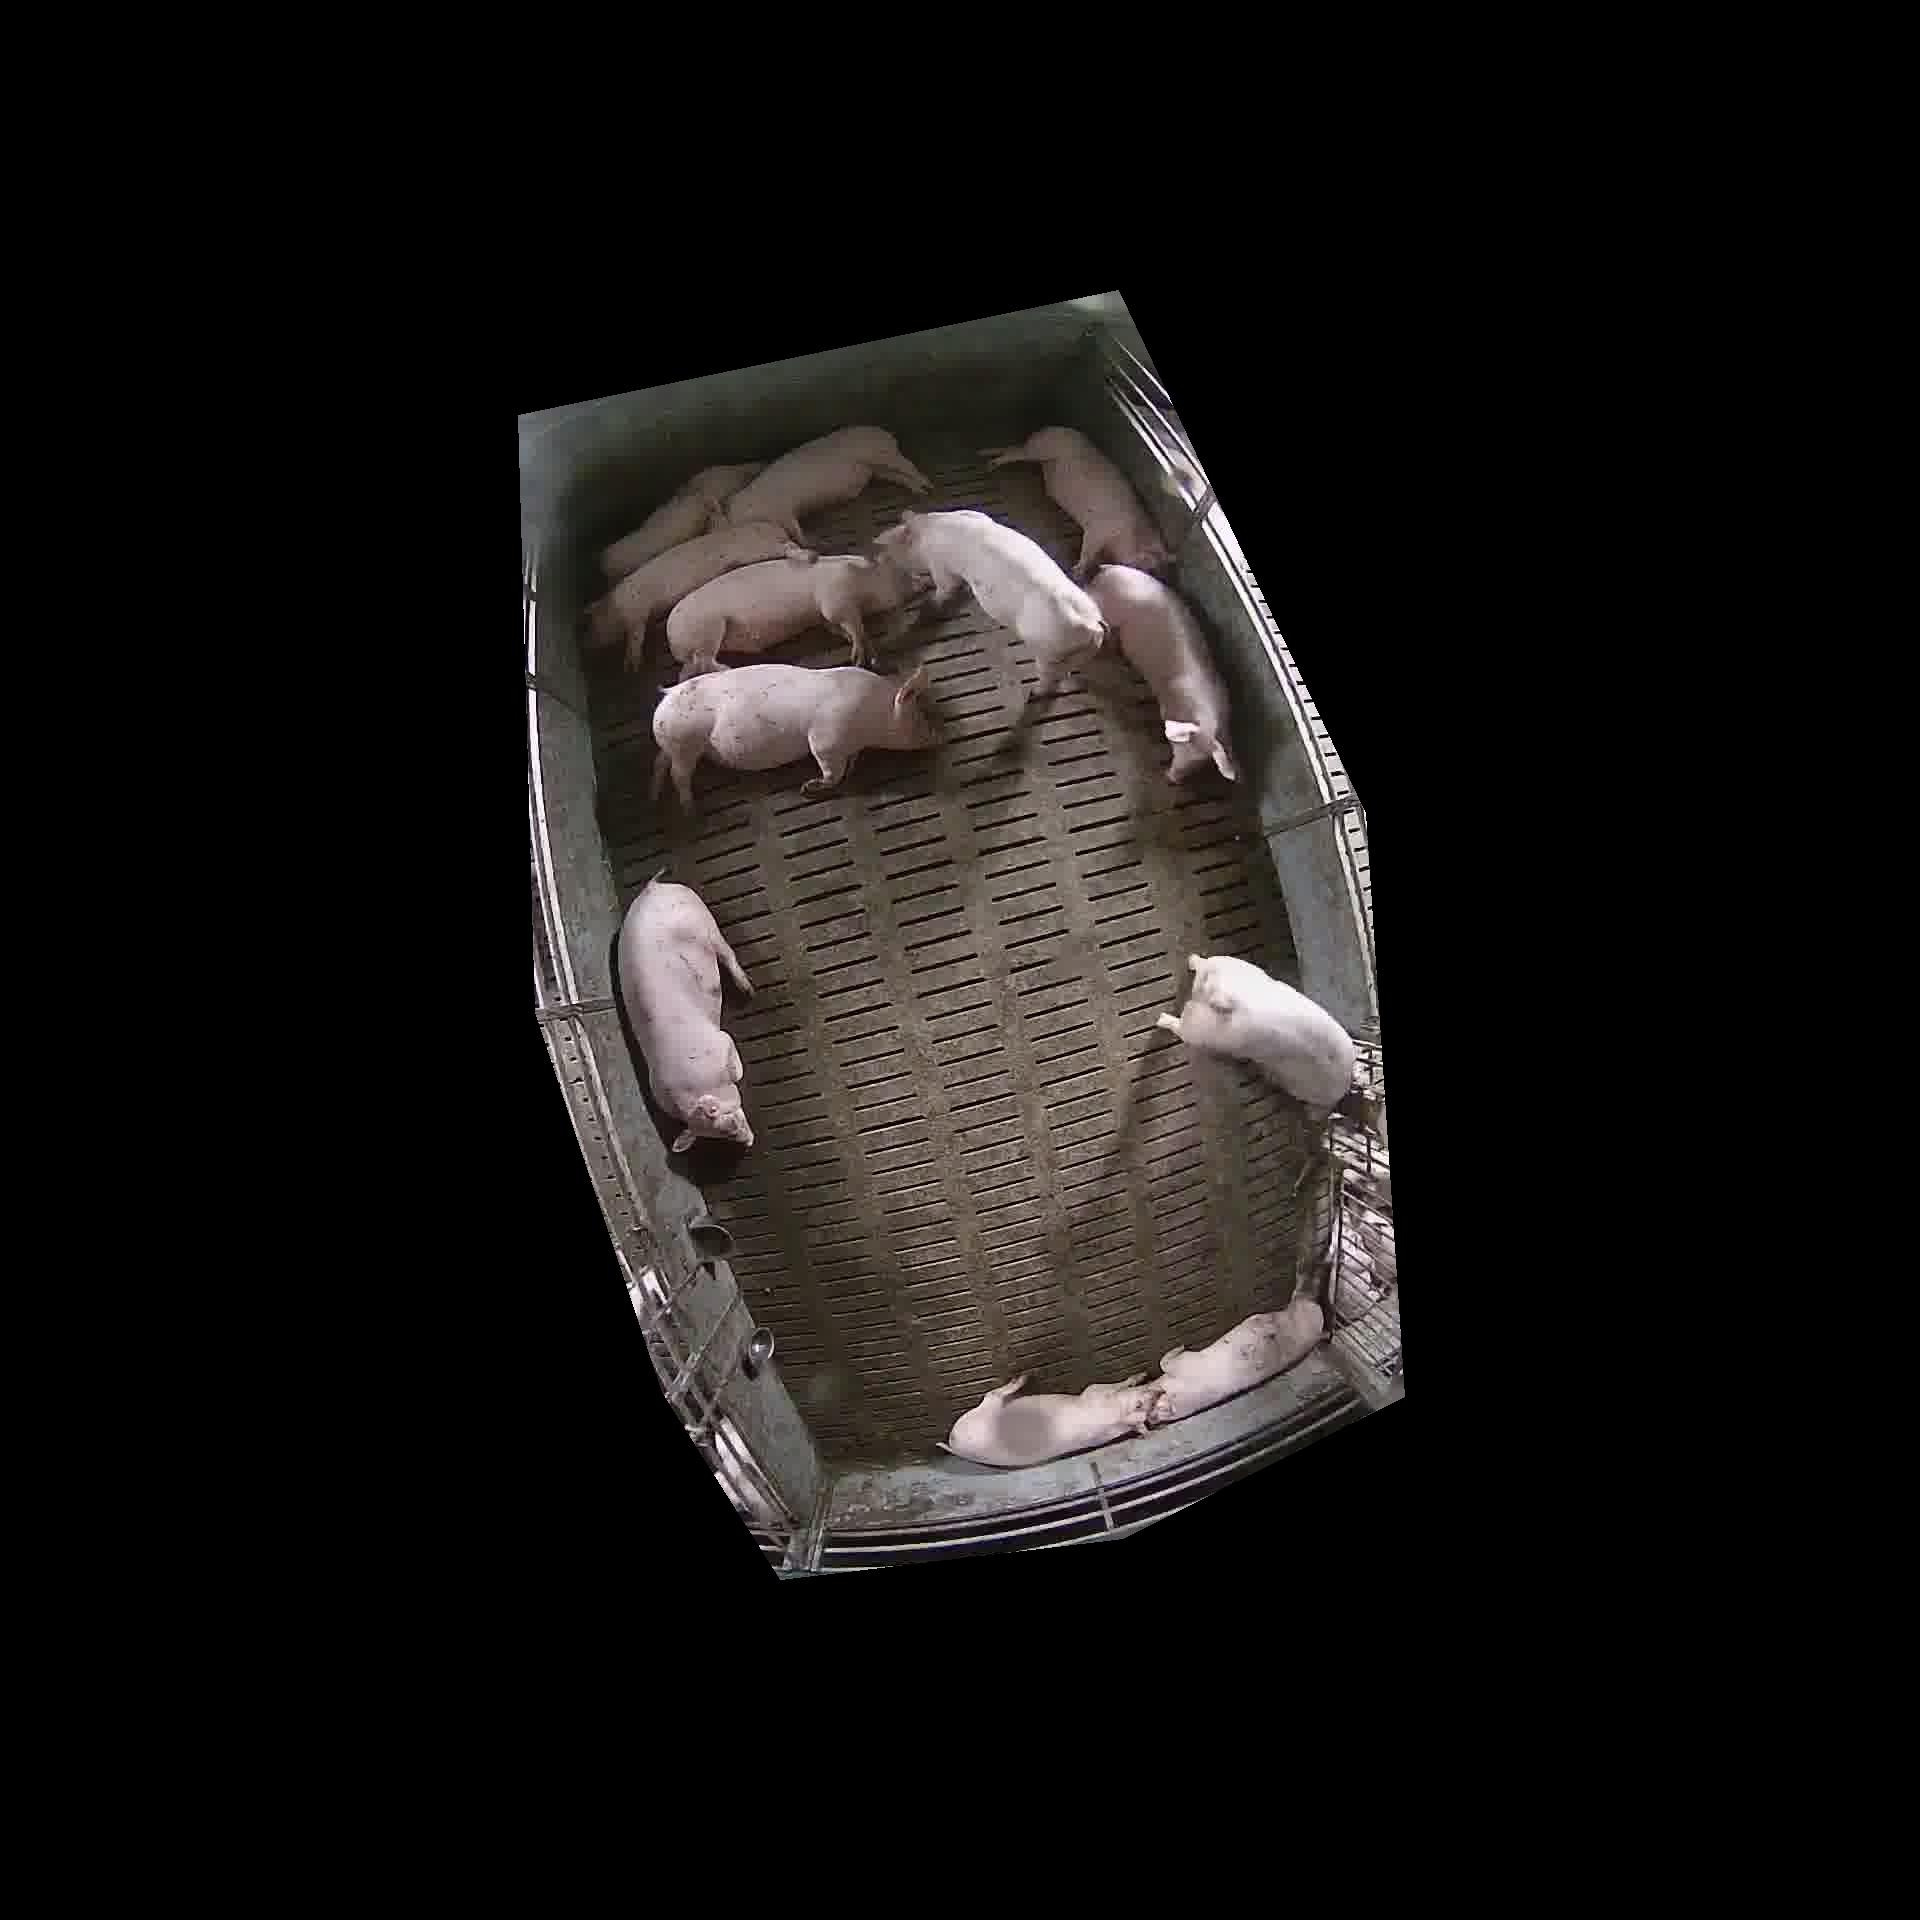pig: (876, 510, 1104, 698), (652, 665, 941, 811), (617, 879, 753, 1152), (585, 522, 807, 668), (1088, 564, 1236, 782), (666, 556, 920, 679), (1159, 955, 1356, 1108), (985, 427, 1167, 577), (724, 425, 928, 542), (1150, 1298, 1324, 1422), (598, 462, 761, 580), (948, 1377, 1155, 1466)
